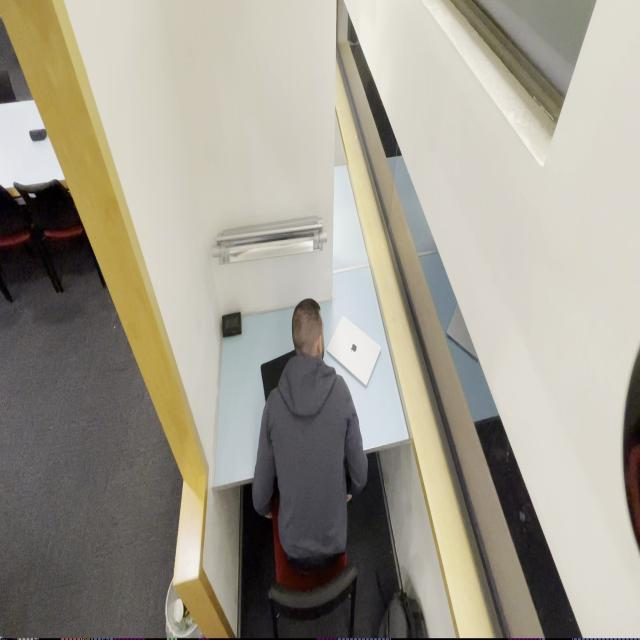ipad: (252, 298, 368, 572)
laptop: (326, 314, 381, 388)
